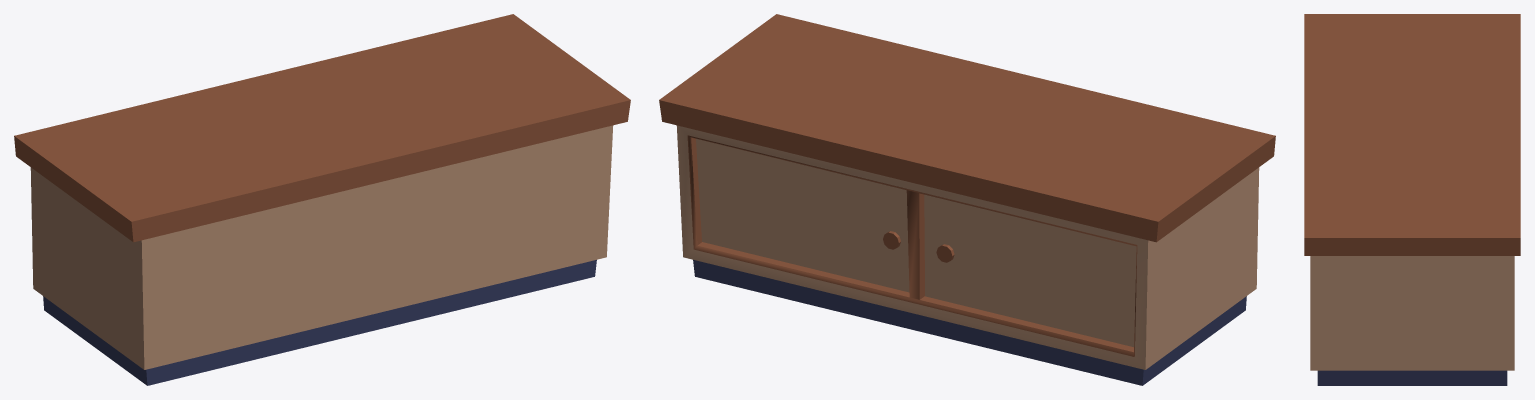
Rendered from storage_v02.fbx.
The picture shows the model from 3 angles, left to right: view 1: azimuth 30°, elevation 25°; view 2: azimuth 150°, elevation 25°; view 3: azimuth 270°, elevation 25°; orthographic projection. The views are drawn at different scales.
Parts seen in each view (by area): view 1: pasted__pCube12; view 2: pasted__pCube12, pasted__pCube9, pasted__pCube10; view 3: pasted__pCube12.
Boxes of the visible parts, bbox=[...] form: pasted__pCube12: bbox=[14, 14, 630, 385]; pasted__pCube12: bbox=[659, 14, 1275, 385]; pasted__pCube9: bbox=[924, 194, 1136, 347]; pasted__pCube10: bbox=[696, 139, 909, 292]; pasted__pCube12: bbox=[1304, 14, 1520, 385].
Bounding box in the file's own units: 218 × 73.08 × 88.99.
